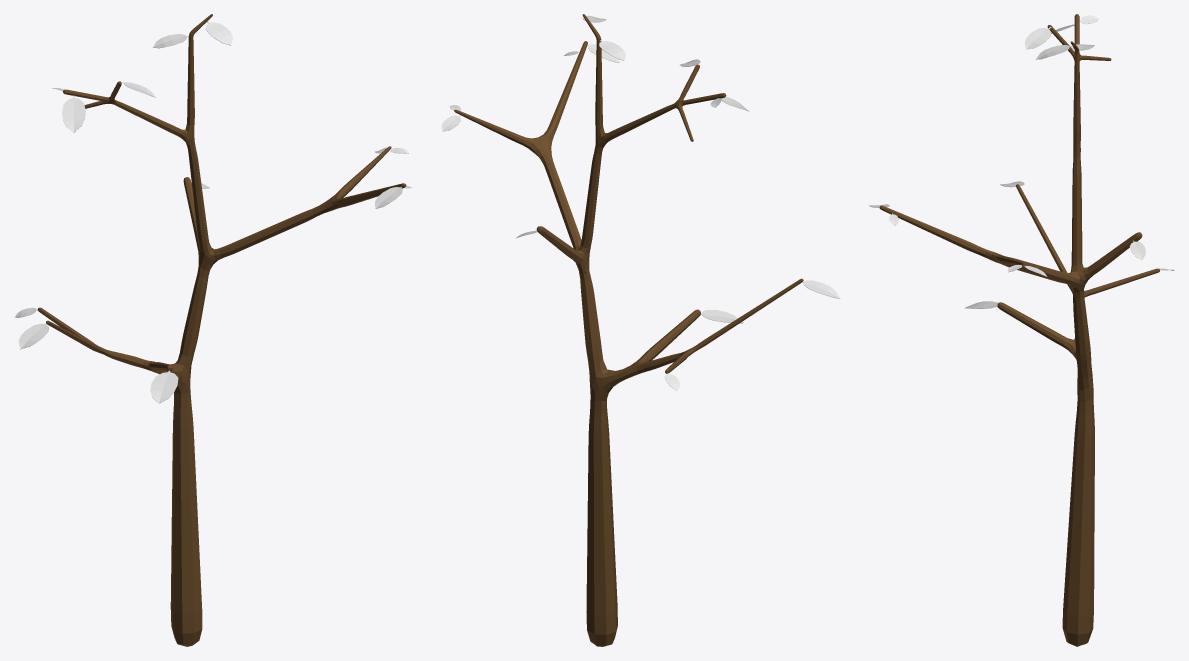
File: stage2.fbx
The picture shows the model from 3 angles, left to right: view 1: azimuth 30°, elevation 25°; view 2: azimuth 150°, elevation 25°; view 3: azimuth 270°, elevation 25°; orthographic projection. The views are drawn at different scales.
Parts seen in each view (by area): view 1: Stage2, Stage2.Leaves; view 2: Stage2, Stage2.Leaves; view 3: Stage2, Stage2.Leaves.
Part boxes in pixels (x1=…): Stage2: x1=37, y1=14, x2=406, y2=646; Stage2.Leaves: x1=14, y1=21, x2=412, y2=403; Stage2: x1=454, y1=14, x2=803, y2=646; Stage2.Leaves: x1=441, y1=15, x2=840, y2=390; Stage2: x1=879, y1=14, x2=1159, y2=646; Stage2.Leaves: x1=869, y1=15, x2=1174, y2=308.
Size of the model in its own units: 83.44 by 129 by 57.89.
